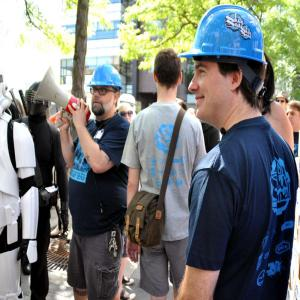blue: (190, 5, 269, 130), (87, 62, 124, 120)
none: (153, 46, 184, 100)
